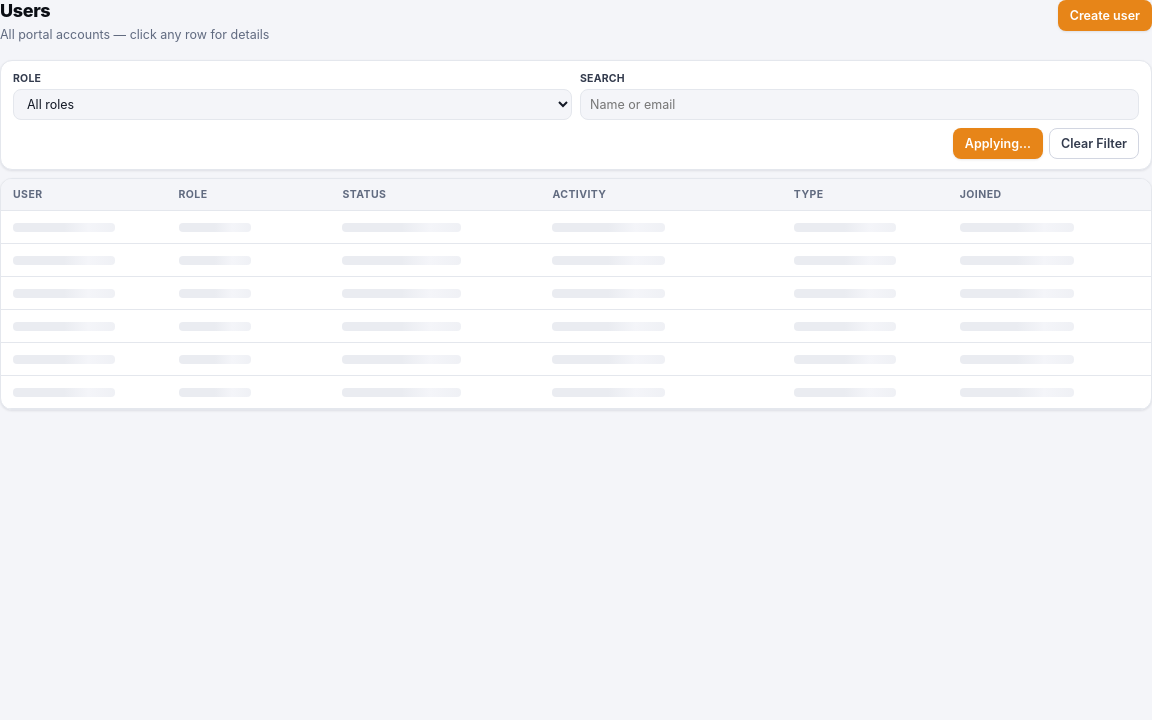
Scenario: AdminUsers › does not offer Super Admin when creating a user
Click the button "Create user": click(1105, 16) [1058,0,1151,31]
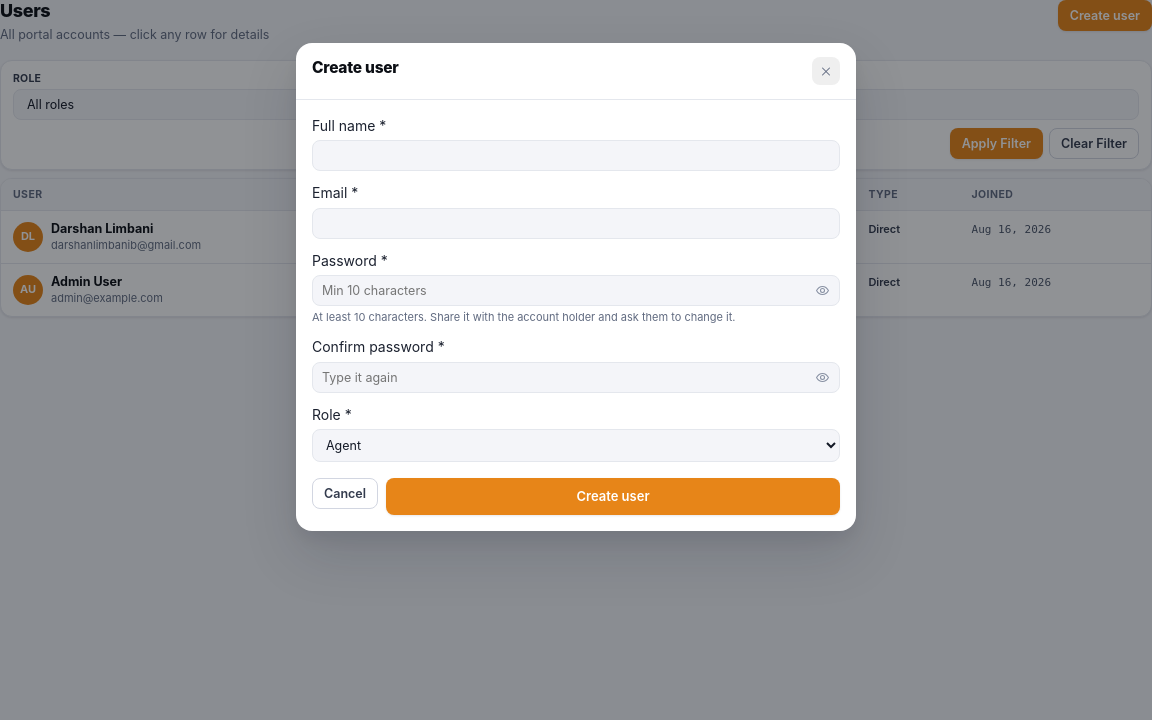
Expected: the field labelled "Full name *" is shown, [312,140,840,172]
